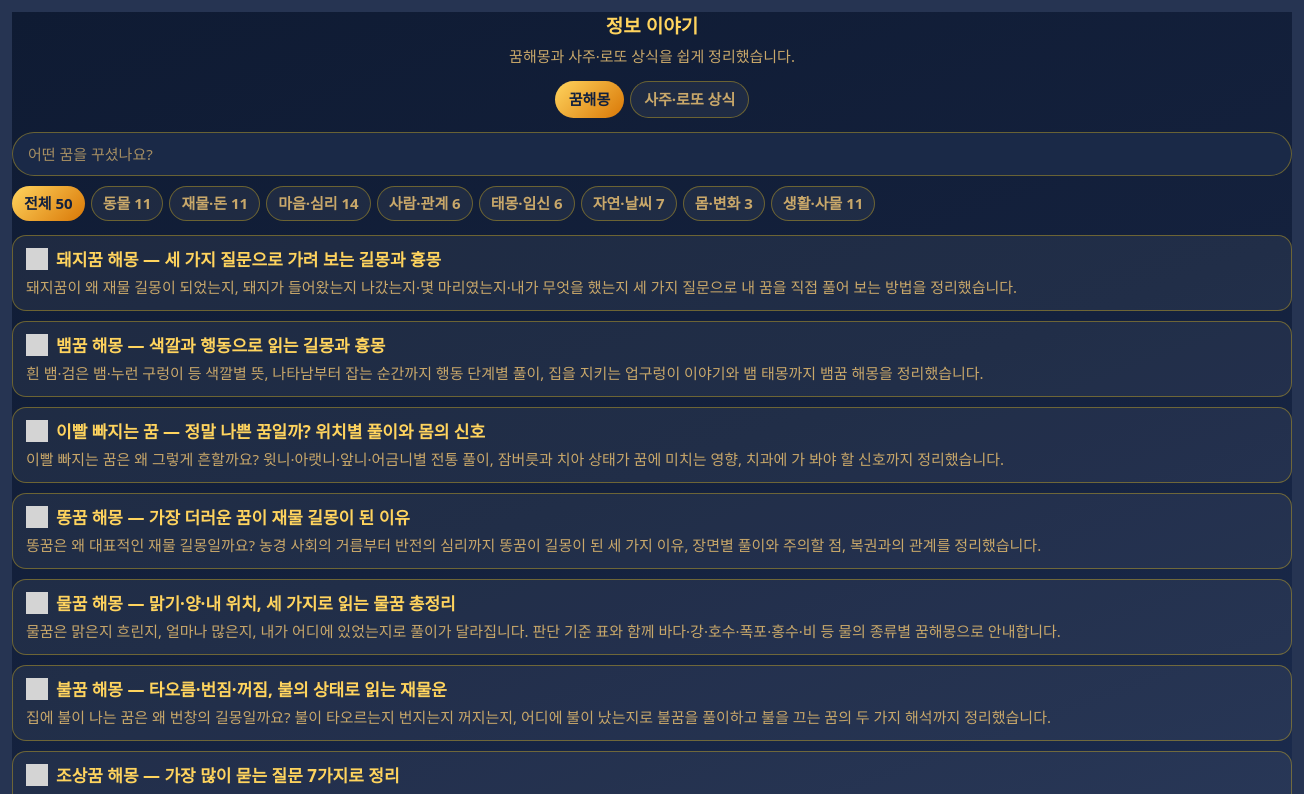
it: 카테고리를 바꾸면 태그 선택이 풀린다
Click the link with class "tag-chip" showing "동물 11". click: x=127, y=203
box: [91,186,163,220]
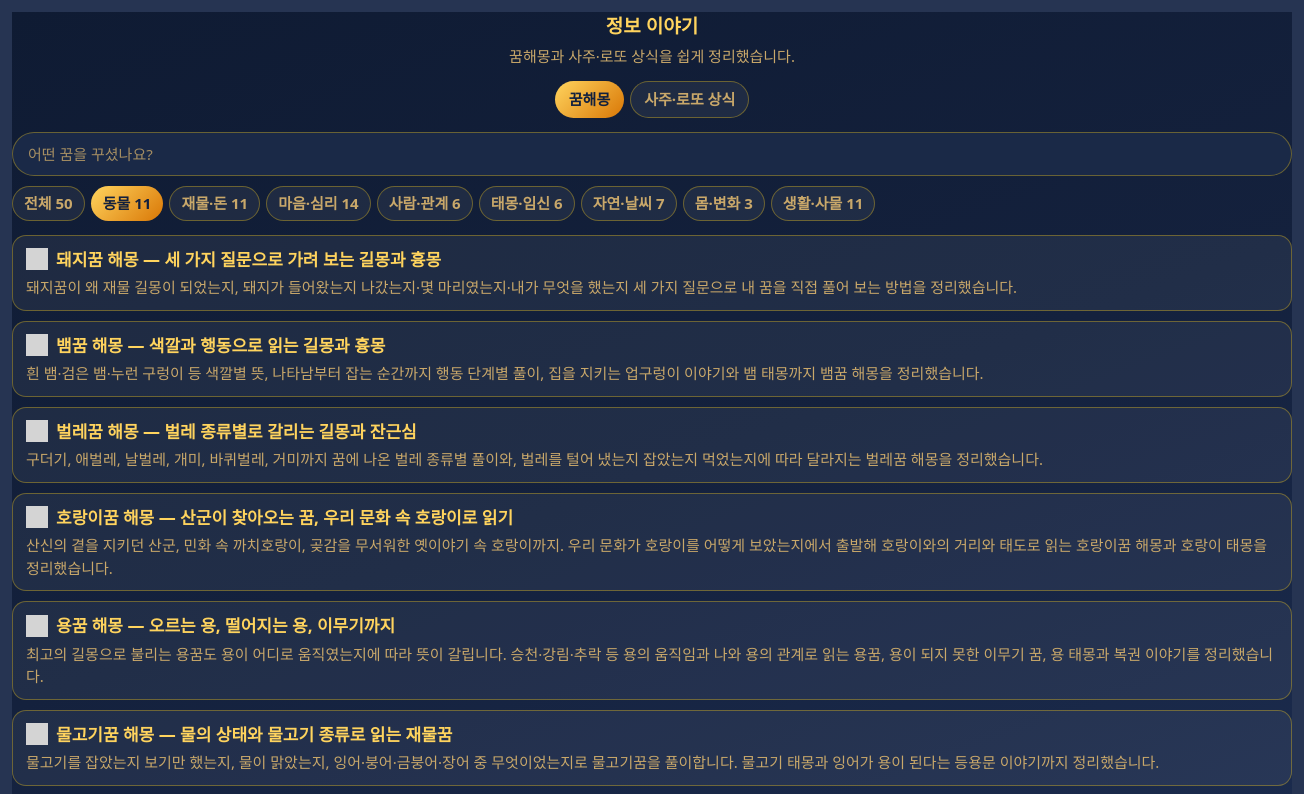
Click the button "사주·로또 상식". click: x=690, y=99
box: [630,81,749,118]
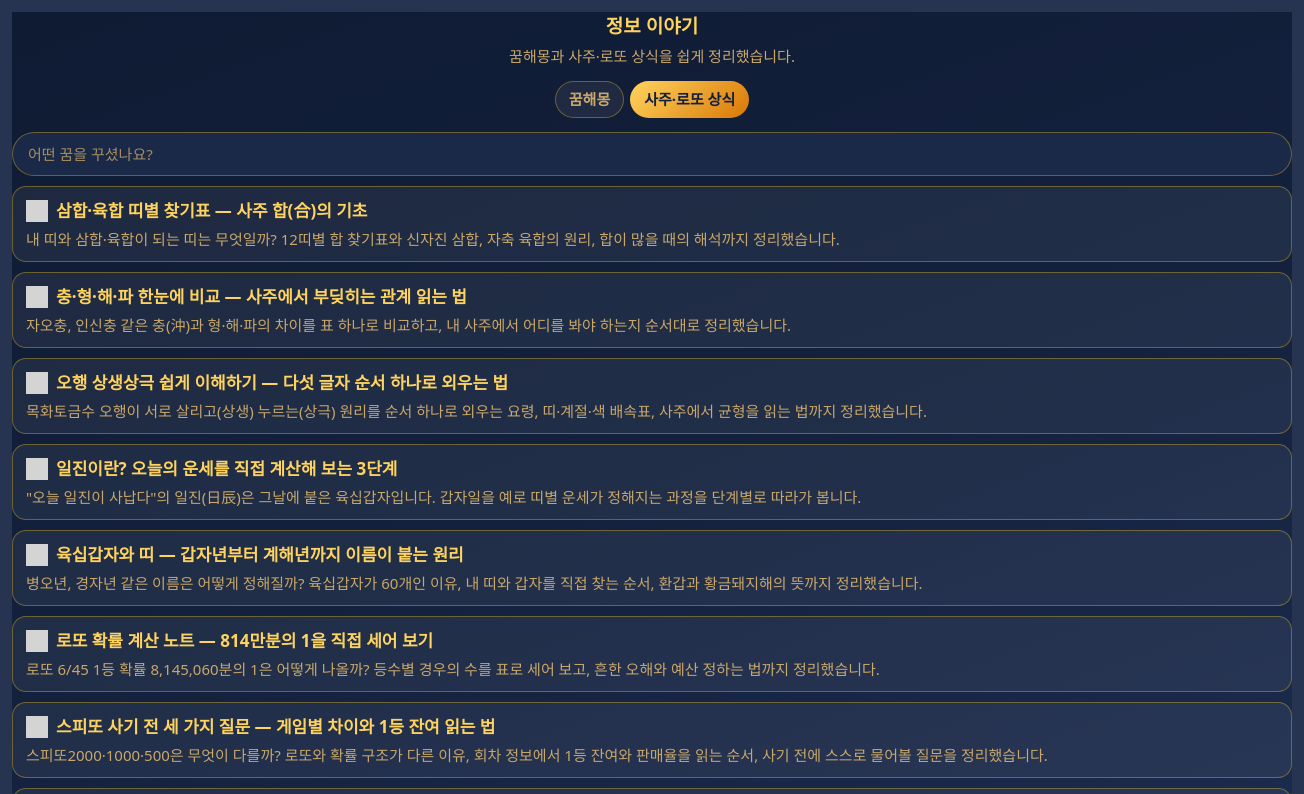
expect no links with class "tag-chip" are shown: met
expect the list item that starts with "삼합·육합 띠별 찾기표 — 사주 합(合)의 기초" is shown: met, box [12,186,1292,262]
